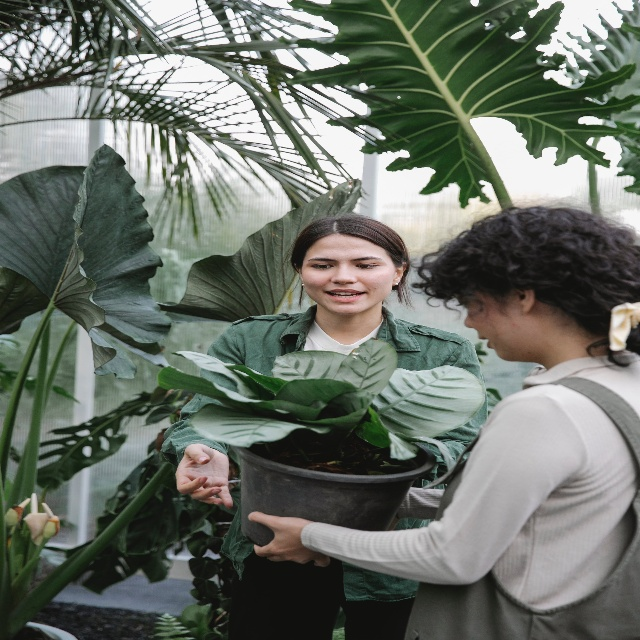Sin_guantes: (246, 509, 330, 567), (175, 443, 233, 509)
